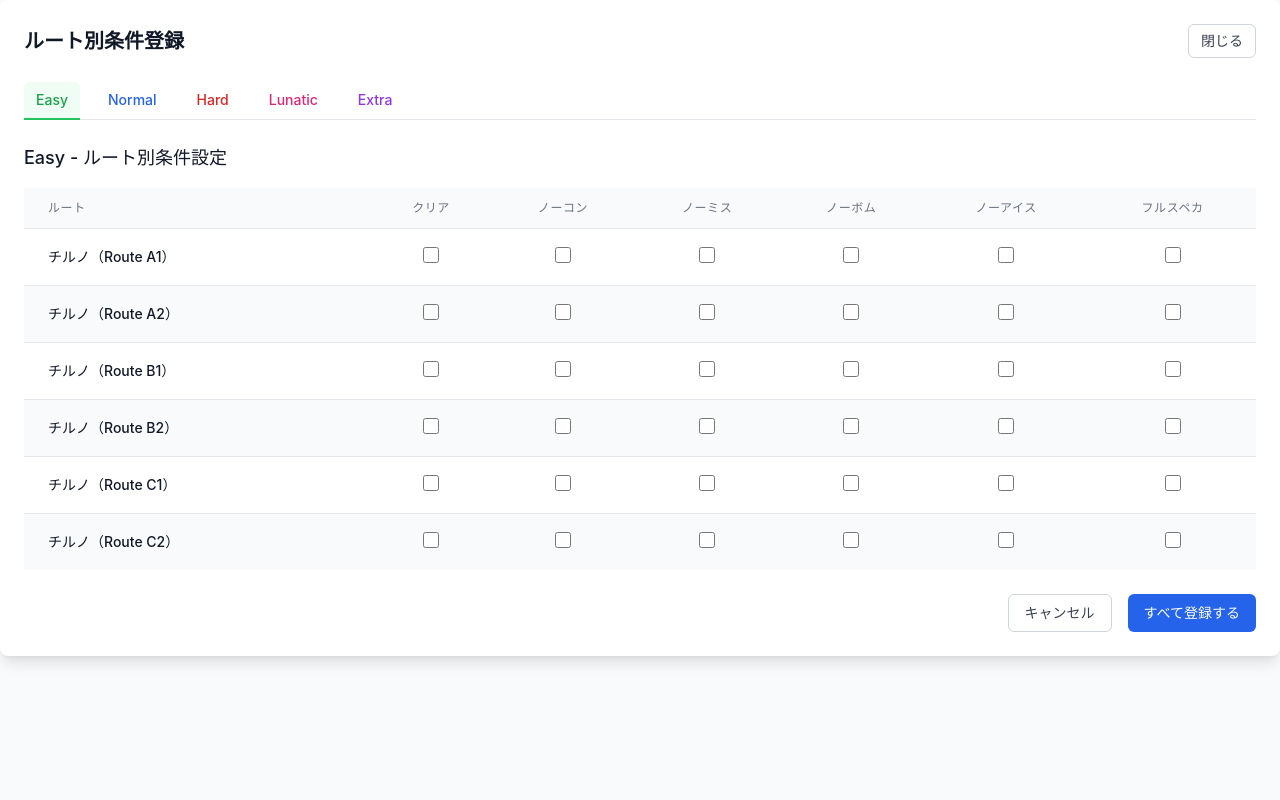
Test case: IndividualTabClearForm › 妖精大戦争の特殊表示 › Extraタブでの表示 › ExtraタブではExtraのみ表示される
Extraタブをクリック
Click the button "Extra": {"x": 375, "y": 101} [346,82,404,120]
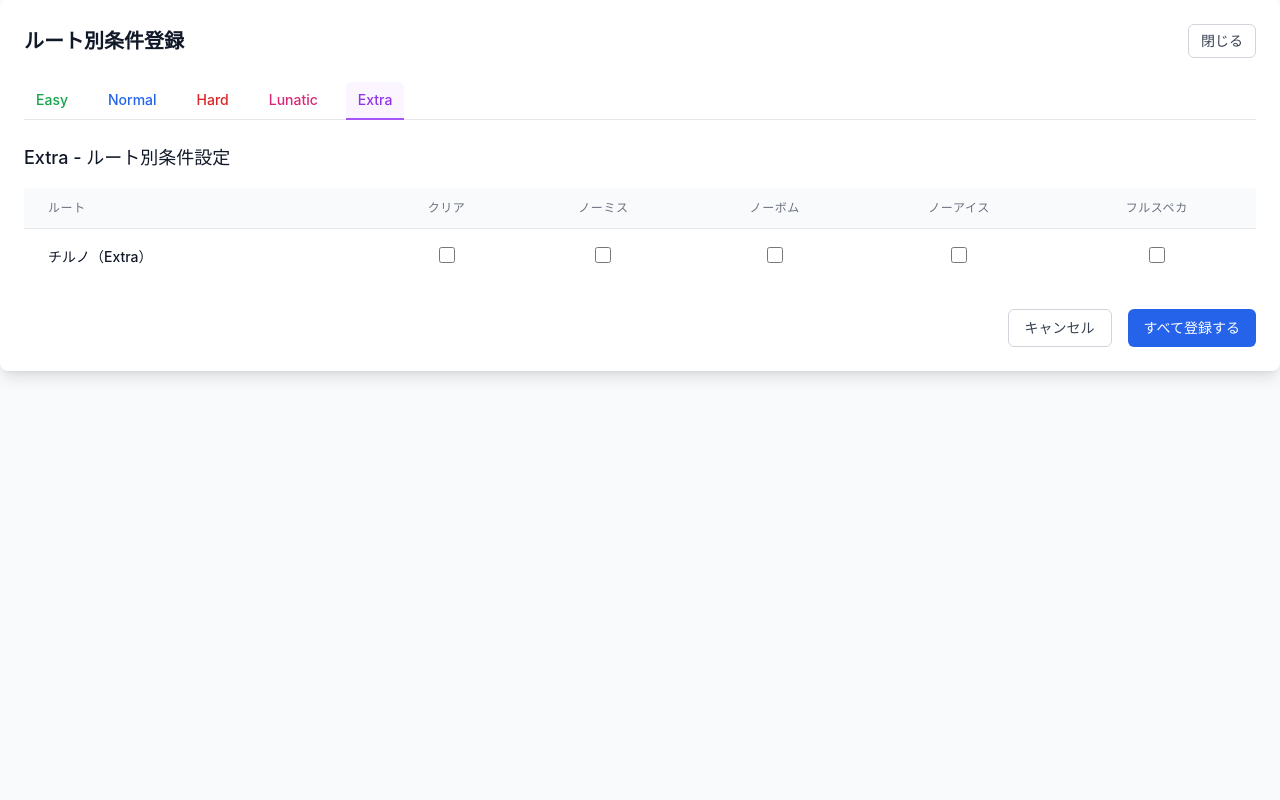
Expected: the text "チルノ（Extra）" is shown, [24,228,375,285]
Expected: the text "チルノ（Route A1）" is gone
Expected: the text "チルノ（Route A2）" is gone
